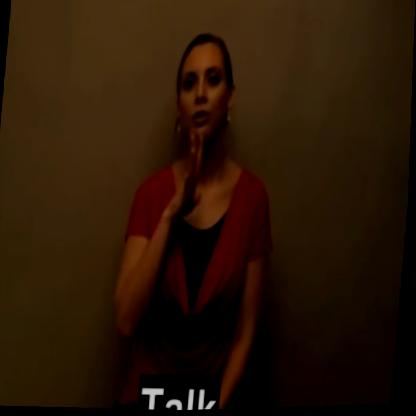Talk: (153, 28, 260, 227)
